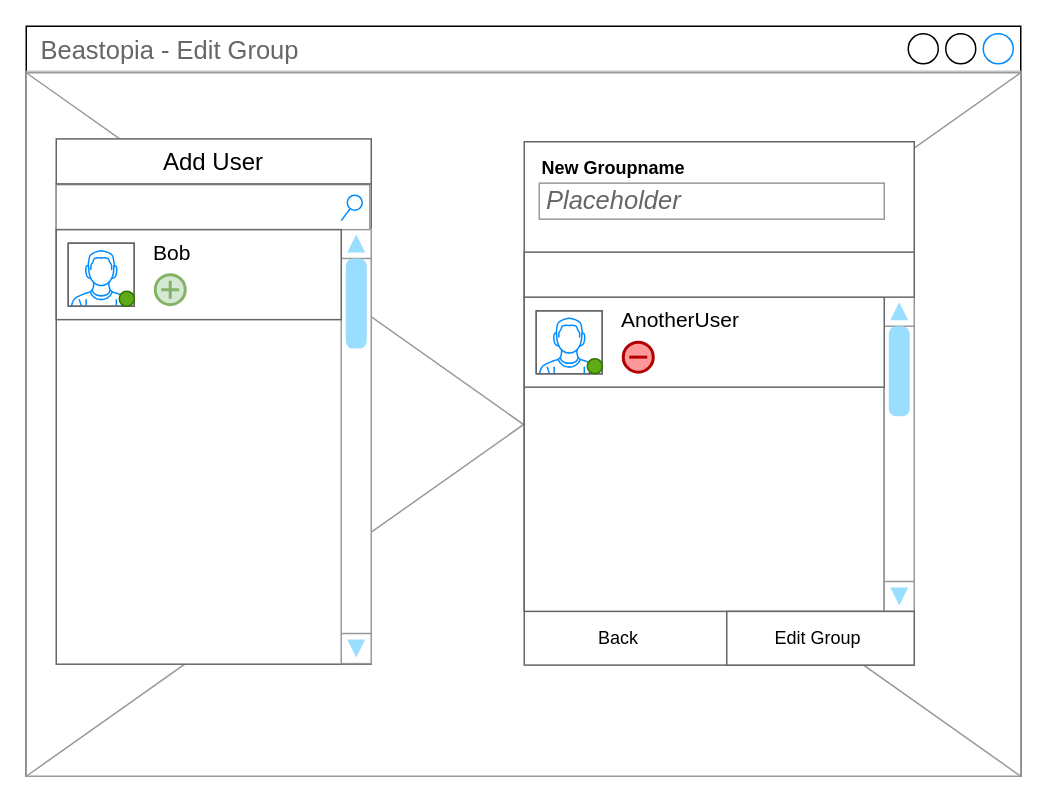
The diagram is 1047 pixels wide and 803 high, and some of its shapes have lost their labels. The centre of each missing label's shape, as x and y in pixels:
Added Users: the point at 718,274
Search User...: the point at 212,206
